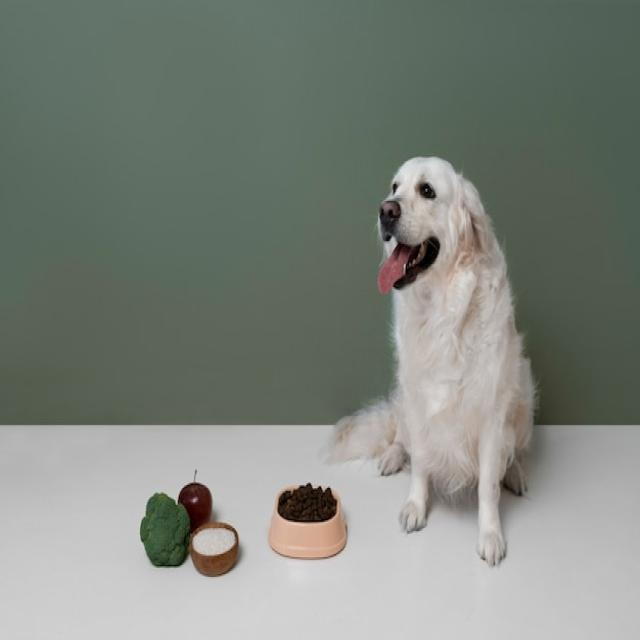Dog: (324, 157, 536, 568)
